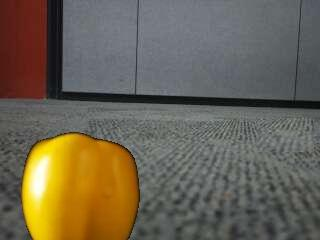Capsicum: (18, 131, 142, 240)
